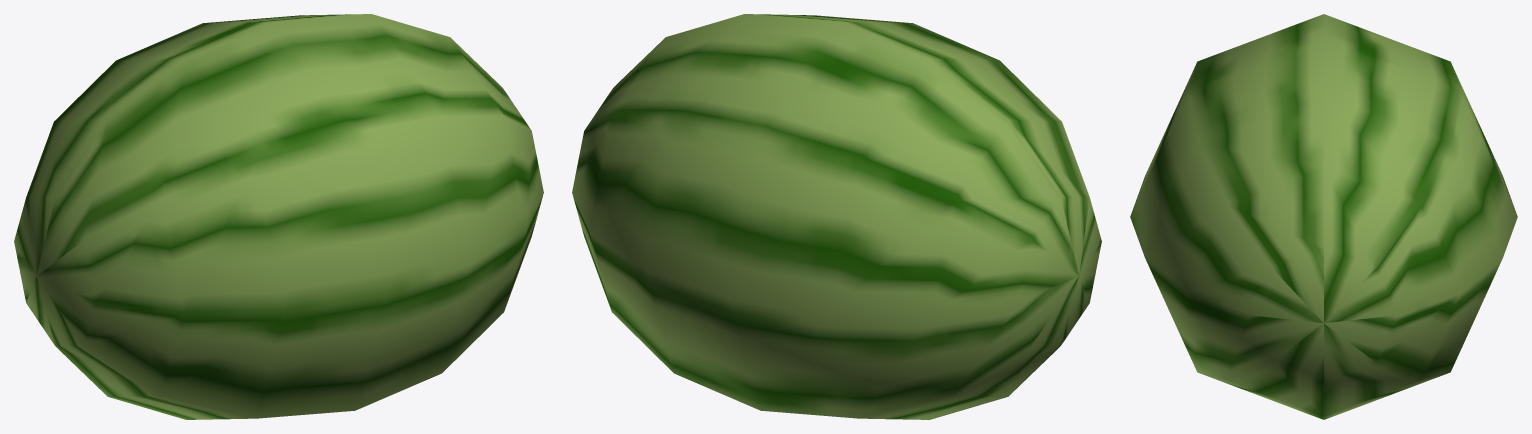
Rendered from Shelves_Assets_Fruit&Vegetable_Semangka.fbx.
The picture shows the model from 3 angles, left to right: view 1: azimuth 30°, elevation 25°; view 2: azimuth 150°, elevation 25°; view 3: azimuth 270°, elevation 25°; orthographic projection. The views are drawn at different scales.
Visible parts, largest first — view 1: Shelves_Assets_Fruit&Vegetable_Semangka; view 2: Shelves_Assets_Fruit&Vegetable_Semangka; view 3: Shelves_Assets_Fruit&Vegetable_Semangka.
Part boxes in pixels (bbox=[...]): Shelves_Assets_Fruit&Vegetable_Semangka: bbox=[14, 14, 543, 419]; Shelves_Assets_Fruit&Vegetable_Semangka: bbox=[572, 14, 1101, 419]; Shelves_Assets_Fruit&Vegetable_Semangka: bbox=[1130, 14, 1517, 419].
Bounding box in the file's own units: 40.03 × 30.85 × 30.85.
